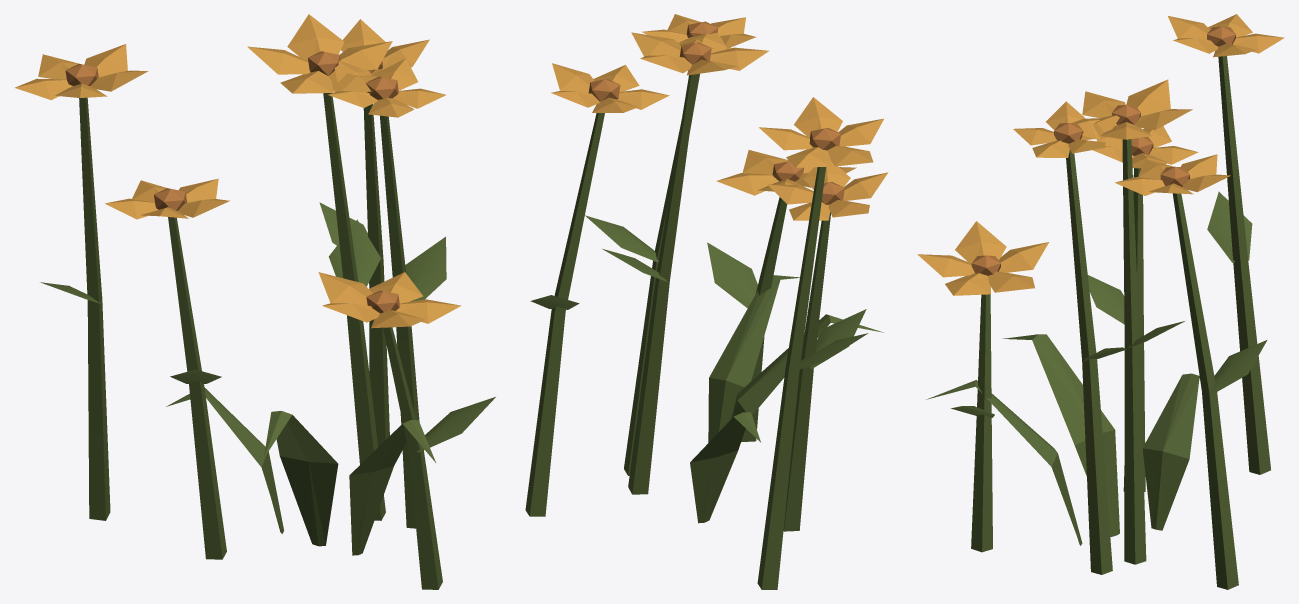
The model's file is foliage_wildflower_b.glb.
The picture shows the model from 3 angles, left to right: view 1: azimuth 30°, elevation 25°; view 2: azimuth 150°, elevation 25°; view 3: azimuth 270°, elevation 25°; orthographic projection. The views are drawn at different scales.
Visible parts, largest first — view 1: foliage_wildflower_b_cluster_material_00, foliage_wildflower_b_cluster_material_01, foliage_wildflower_b_cluster_material_02; view 2: foliage_wildflower_b_cluster_material_00, foliage_wildflower_b_cluster_material_01, foliage_wildflower_b_cluster_material_02; view 3: foliage_wildflower_b_cluster_material_00, foliage_wildflower_b_cluster_material_01, foliage_wildflower_b_cluster_material_02.
Boxes of the visible parts, <box> form: foliage_wildflower_b_cluster_material_00: <box>40,93,495,589</box>; foliage_wildflower_b_cluster_material_01: <box>15,14,461,328</box>; foliage_wildflower_b_cluster_material_02: <box>65,51,399,313</box>; foliage_wildflower_b_cluster_material_00: <box>525,73,883,589</box>; foliage_wildflower_b_cluster_material_01: <box>551,14,888,220</box>; foliage_wildflower_b_cluster_material_02: <box>588,21,844,204</box>; foliage_wildflower_b_cluster_material_00: <box>926,56,1270,589</box>; foliage_wildflower_b_cluster_material_01: <box>917,14,1284,295</box>; foliage_wildflower_b_cluster_material_02: <box>971,26,1235,275</box>.
Size of the model in its own units: 0.5686 by 0.7081 by 0.5352.
